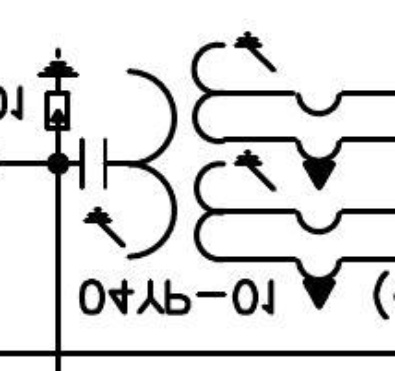115_cvt_1p: (78, 29, 347, 311)
115_la: (36, 46, 80, 131)
